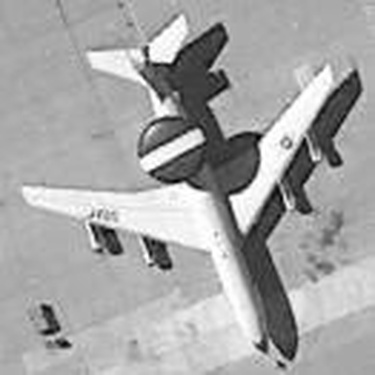airplane: (9, 9, 348, 363)
